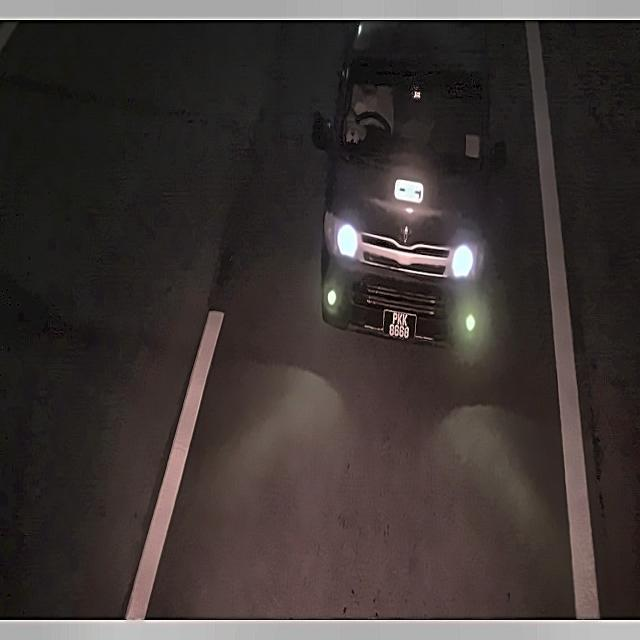car: (381, 305, 420, 347)
